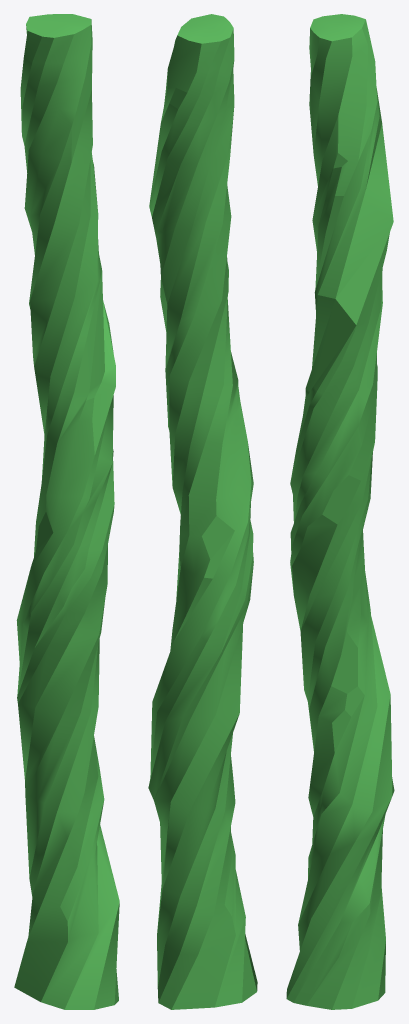
File: jungle_tree_A_twist.fbx
3 renders of one model, left to right at view 1: azimuth 90°, elevation 25°; view 2: azimuth 150°, elevation 25°; view 3: azimuth 330°, elevation 25°, orthographic.
Visible parts, largest first — view 1: jungle_tree_A_twist; view 2: jungle_tree_A_twist; view 3: jungle_tree_A_twist.
Boxes of the visible parts, x1,y1,x2,y2 form: jungle_tree_A_twist: [14, 14, 119, 1009]; jungle_tree_A_twist: [148, 14, 257, 1009]; jungle_tree_A_twist: [286, 14, 394, 1009].
Size of the model in its own units: 94.84 by 939 by 92.51.
